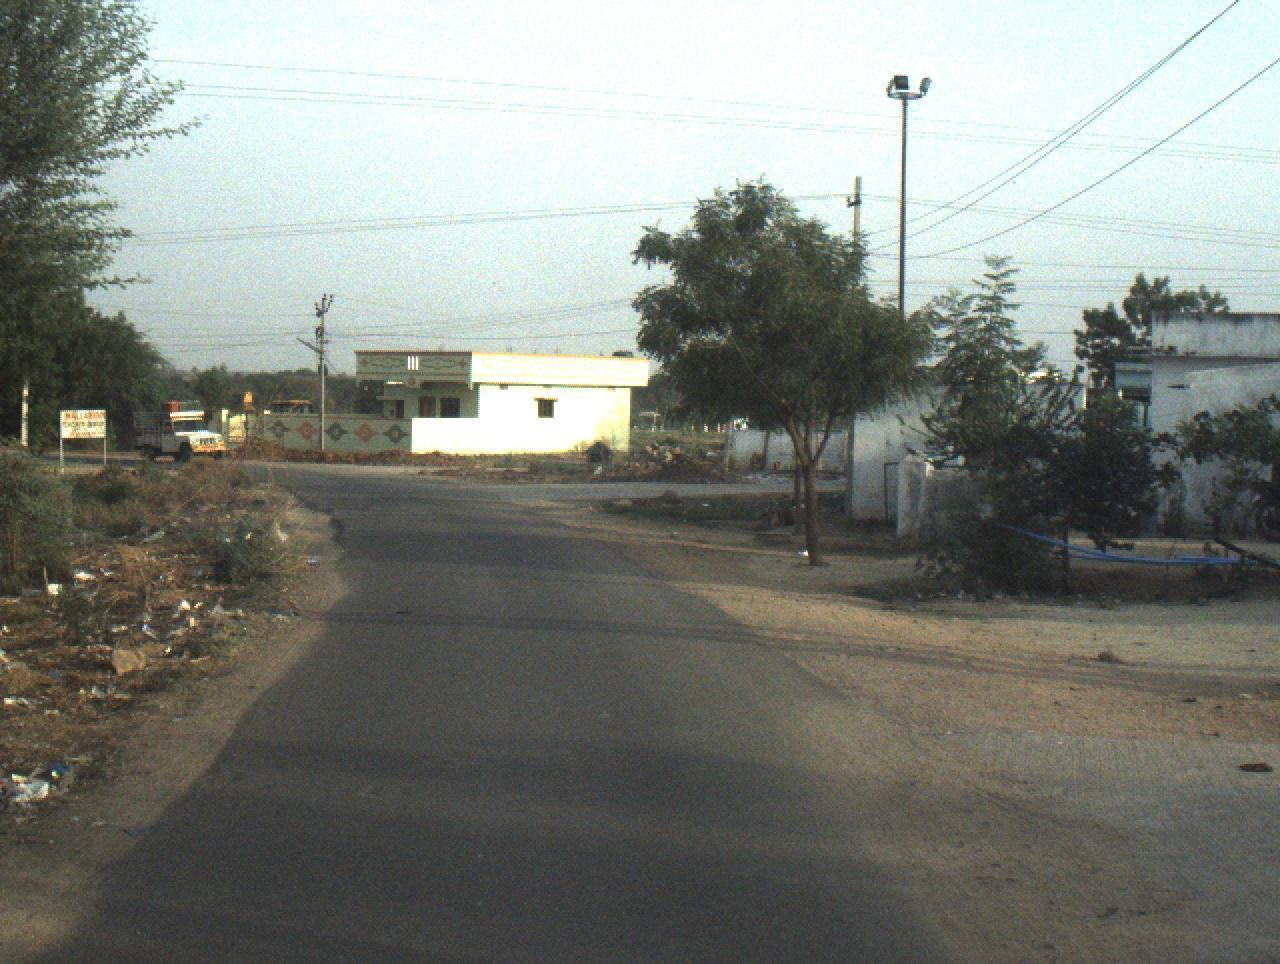off: (25, 21, 1280, 964)
